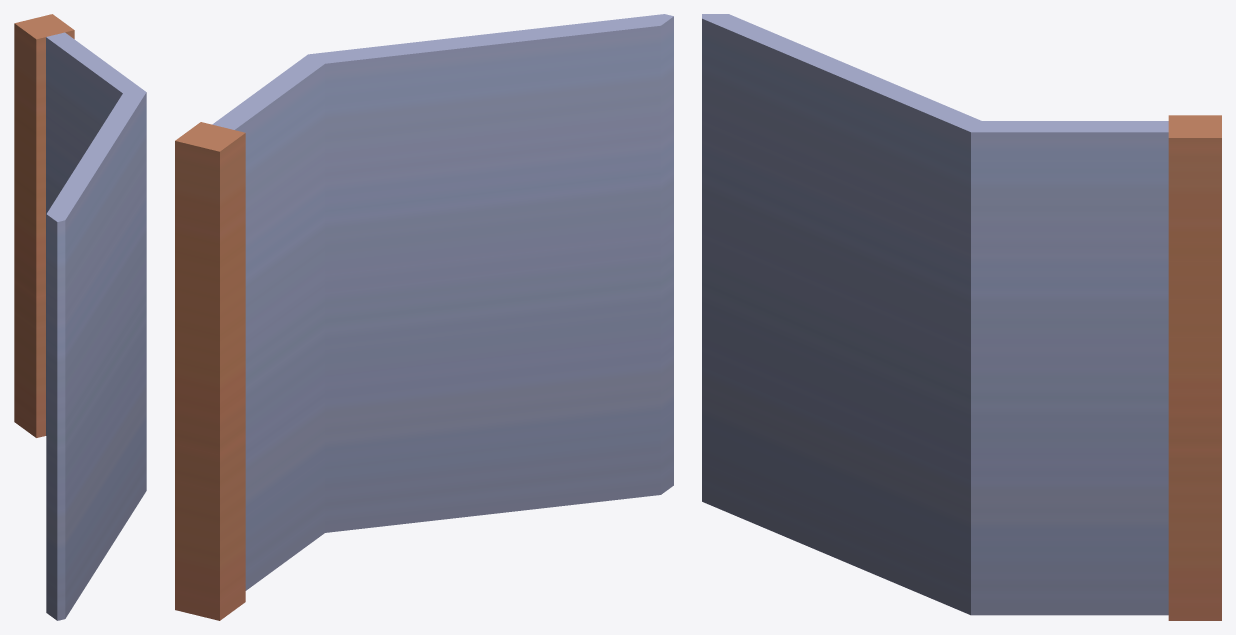
File: wall-corner-diagonal-half.glb
3 renders of one model, left to right at view 1: azimuth 30°, elevation 25°; view 2: azimuth 150°, elevation 25°; view 3: azimuth 270°, elevation 25°, orthographic. The views are drawn at different scales.
Parts seen in each view (by area): view 1: wall-corner-diagonal-half; view 2: wall-corner-diagonal-half; view 3: wall-corner-diagonal-half.
Boxes of the visible parts, <box> form: wall-corner-diagonal-half: <box>14,14,146,620</box>; wall-corner-diagonal-half: <box>175,14,673,620</box>; wall-corner-diagonal-half: <box>702,14,1221,620</box>.
Size of the model in its own units: 0.55 by 1 by 0.975.
1 material, 1 textured.
